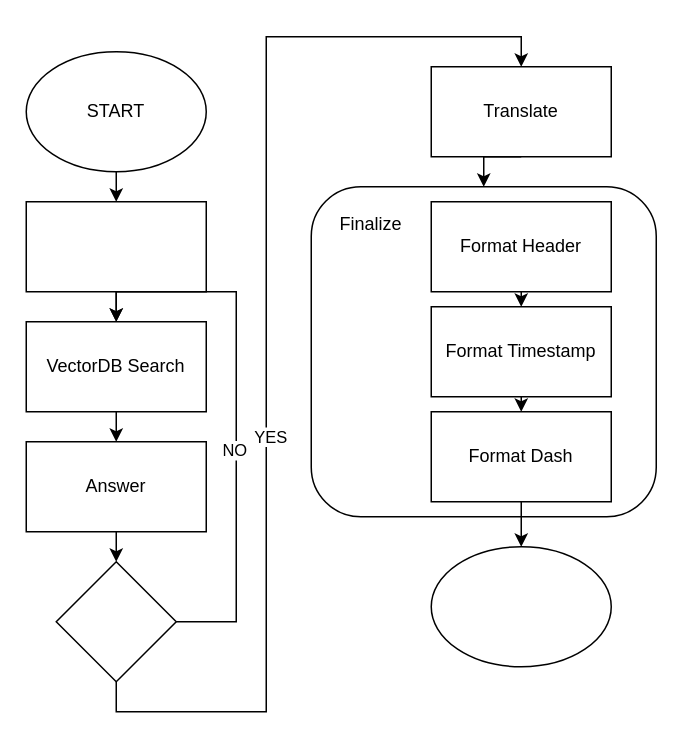
Some shapes in this 683 by 750 pixel diagram are drawn without their labels. The shapes that lost their labels are listed below. From the top down, each one's centre as x and y in pixels, then its label:
At point 115,246: "Prompt Rewrite".
At point 115,621: "Correct?".
At point 520,606: "END".
